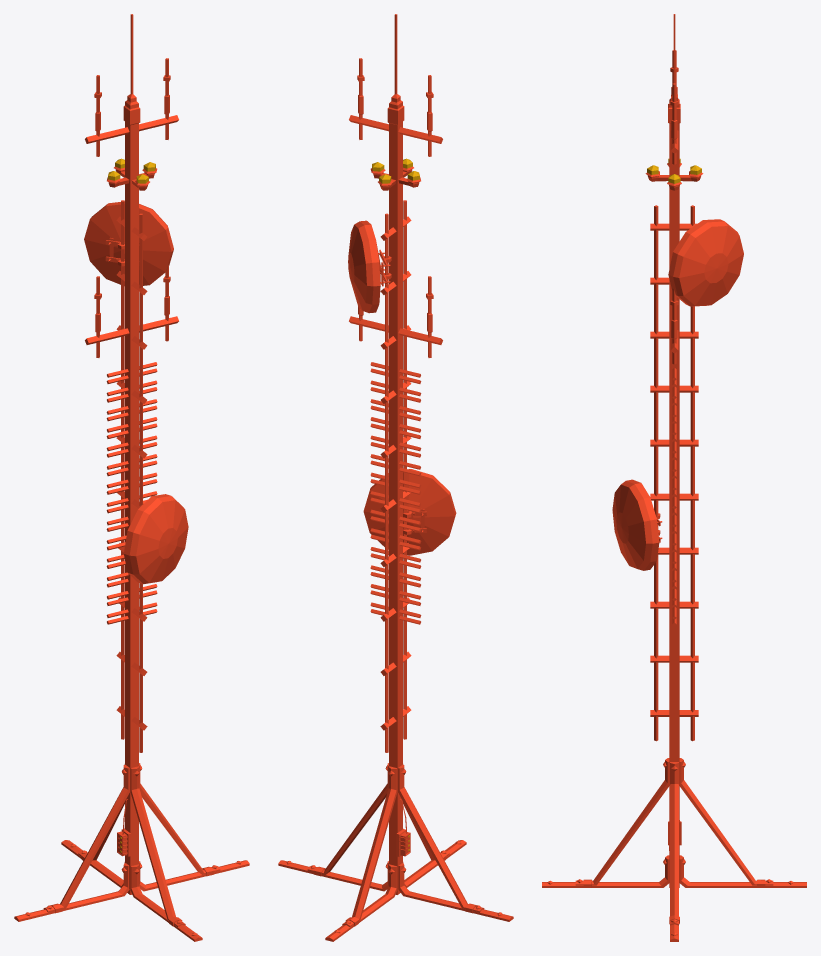
The model's file is SM_Antenna_A_City.fbx.
The picture shows the model from 3 angles, left to right: view 1: azimuth 30°, elevation 25°; view 2: azimuth 150°, elevation 25°; view 3: azimuth 270°, elevation 25°; orthographic projection.
Parts seen in each view (by area): view 1: SM_Antenna_A_City; view 2: SM_Antenna_A_City; view 3: SM_Antenna_A_City.
Part boxes in pixels (box(x1,y1,x2,y2)): SM_Antenna_A_City: box(14, 14, 249, 941); SM_Antenna_A_City: box(278, 14, 513, 941); SM_Antenna_A_City: box(542, 14, 806, 941).
Bounding box in the file's own units: 2.9 × 10.55 × 2.9.
